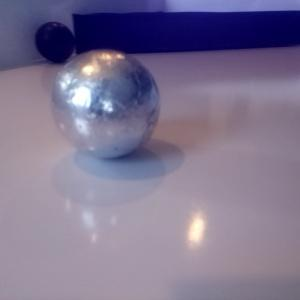zone: (72, 8, 300, 55)
